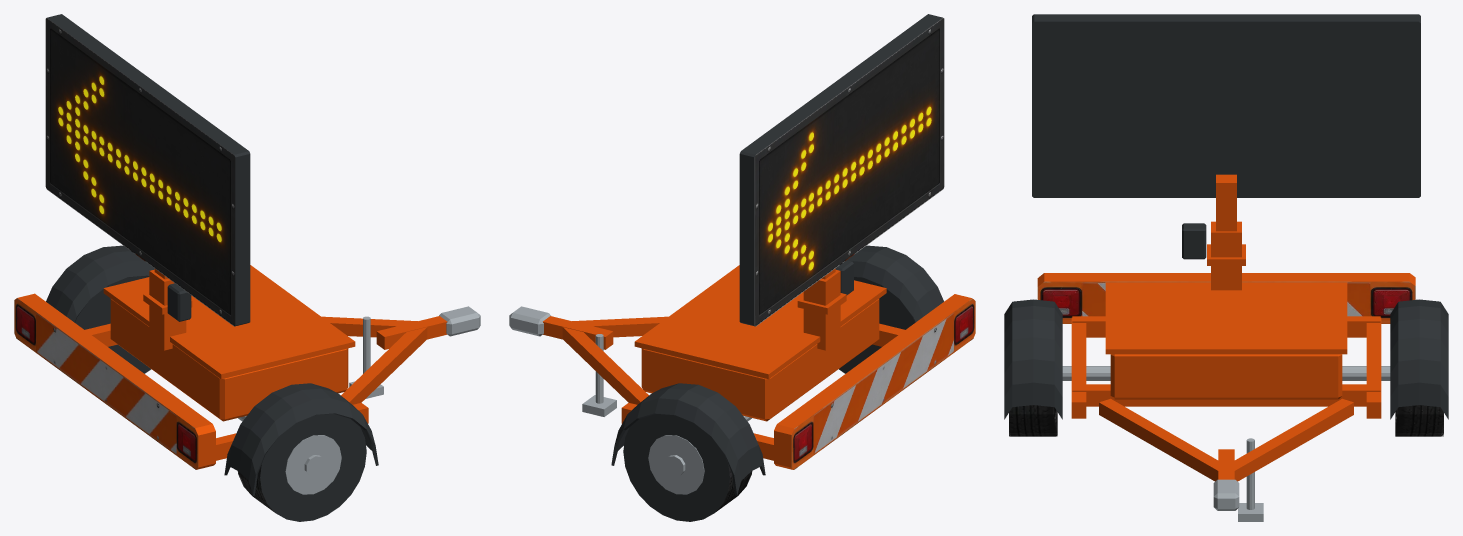
File: cz_arrowboard.glb
3 views of the same model, side by side, from view 1: azimuth 30°, elevation 25°; view 2: azimuth 150°, elevation 25°; view 3: azimuth 270°, elevation 25° (orthographic). The views are drawn at different scales.
Visible parts, largest first — view 1: cz_arrowboard; view 2: cz_arrowboard; view 3: cz_arrowboard.
Boxes of the visible parts, x1=… form: cz_arrowboard: x1=14, y1=14, x2=480, y2=521; cz_arrowboard: x1=509, y1=14, x2=975, y2=521; cz_arrowboard: x1=1004, y1=14, x2=1448, y2=521.
Size of the model in its own units: 2.7 by 2.61 by 2.74.
Materials: 4 (2 with a texture image).
